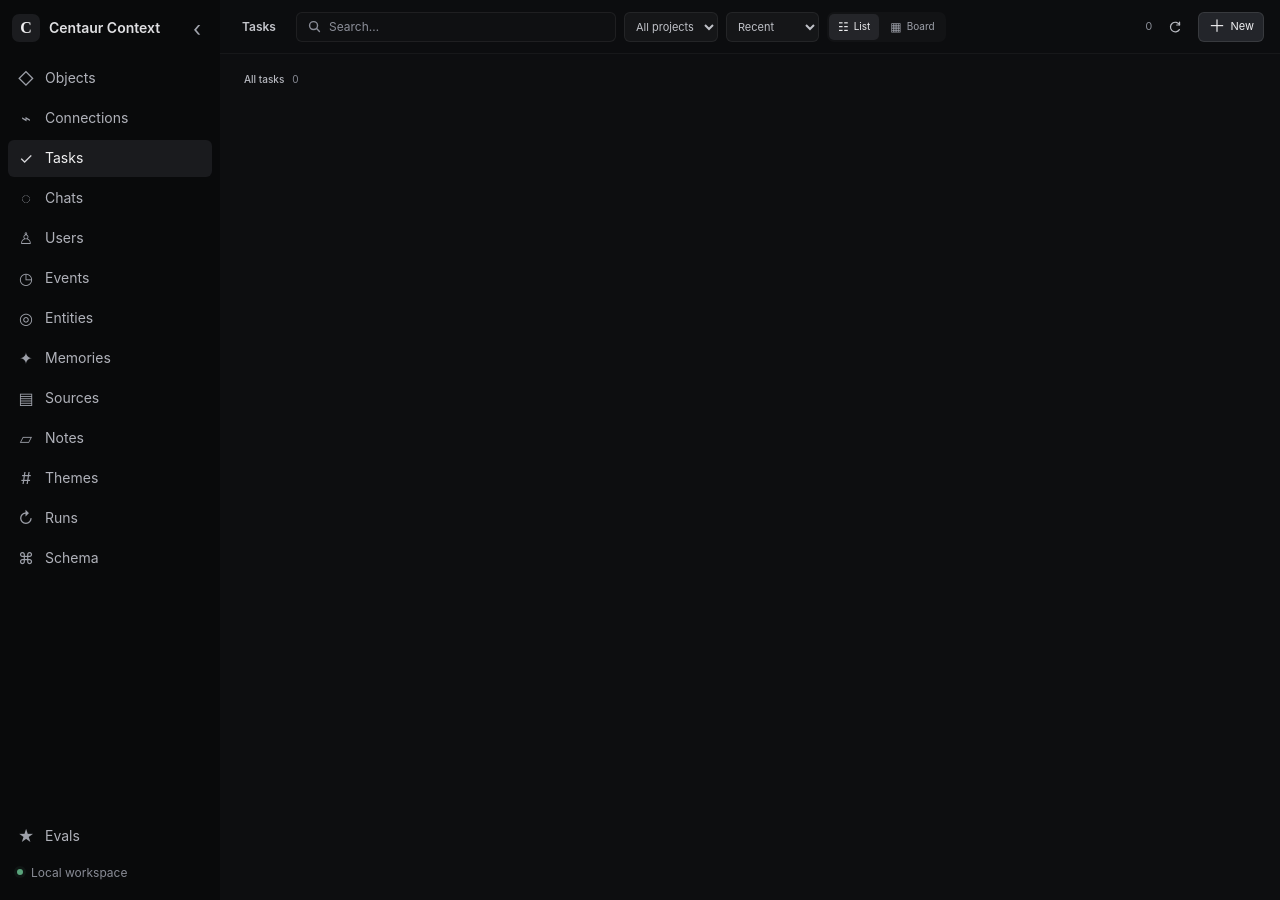
Test case: Tasks List due-date mode › groups local dates, preserves the existing task rows, and sends only a supported API sort
Step 1. Select "Due date" in the dropdown named "Sort Tasks" → (772, 26), box [726, 12, 819, 42]
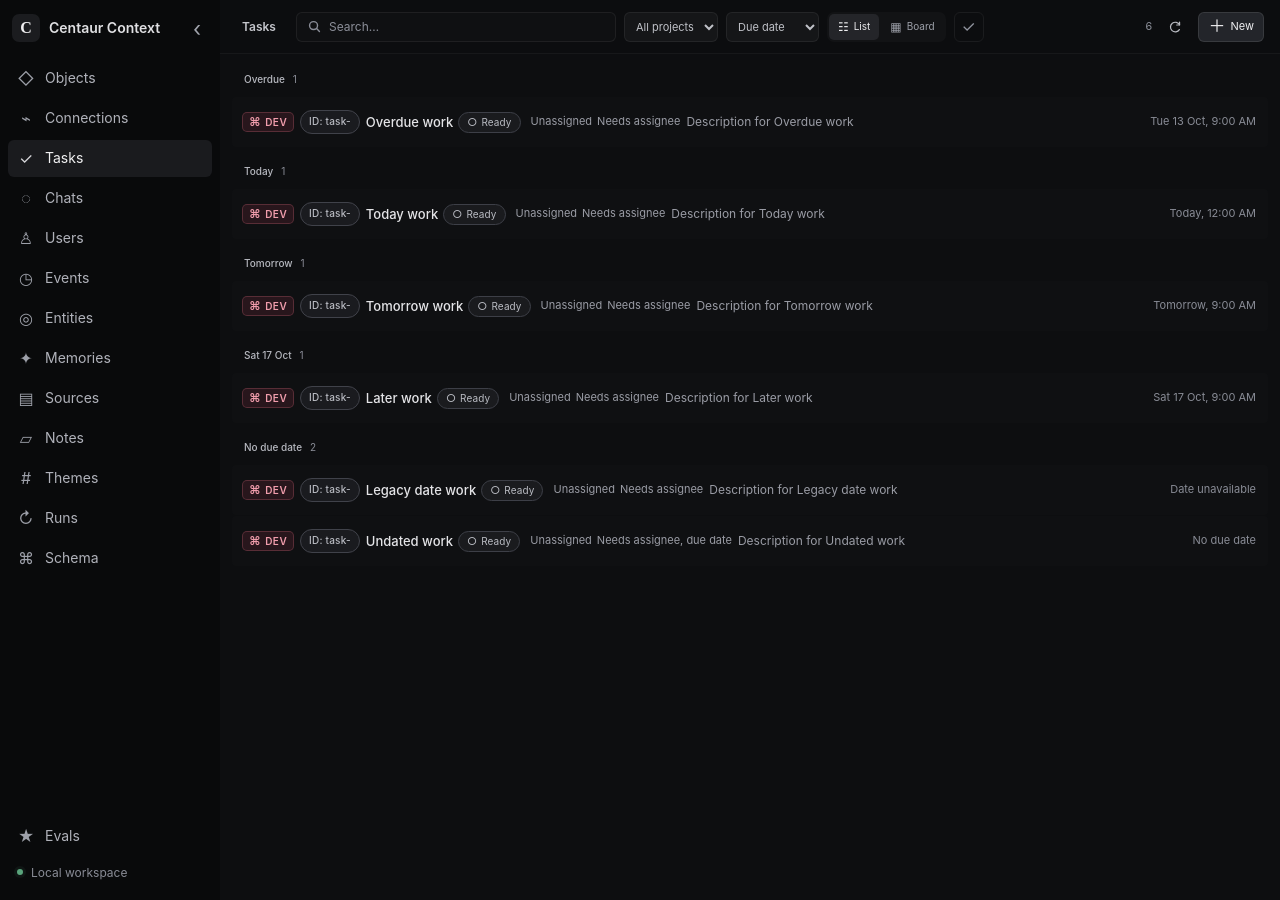
Now the element named "Overdue tasks" shows "Overdue work", box [366, 114, 453, 130]
Now the element named "Today tasks" shows "Today work", box [366, 206, 438, 222]
Now the element named "Tomorrow tasks" shows "Tomorrow work", box [366, 298, 463, 314]
Step 2. Click the button named "Show completed" → (969, 26), box [954, 12, 984, 42]
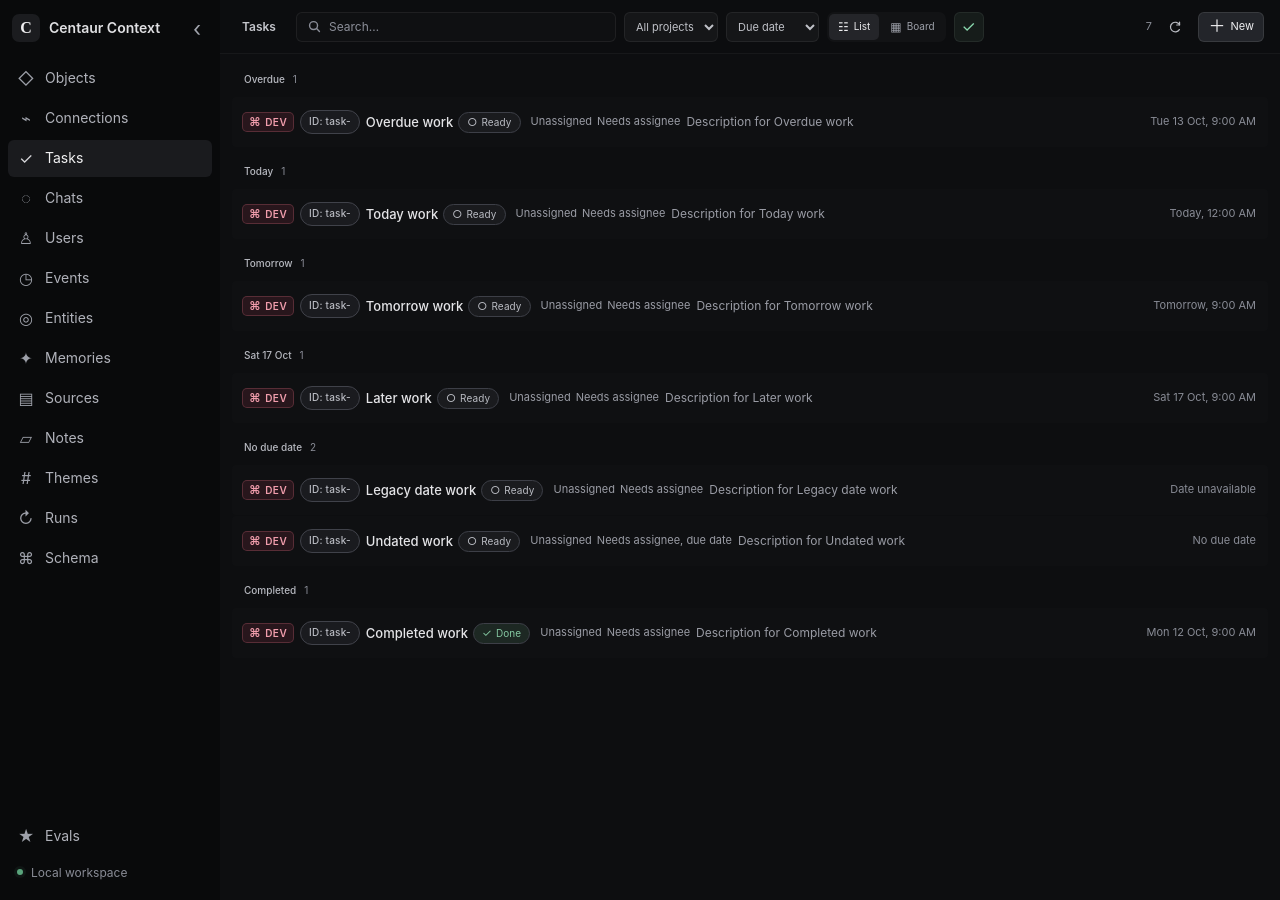
Now the element named "Completed tasks" shows "Completed work", box [366, 625, 468, 641]
